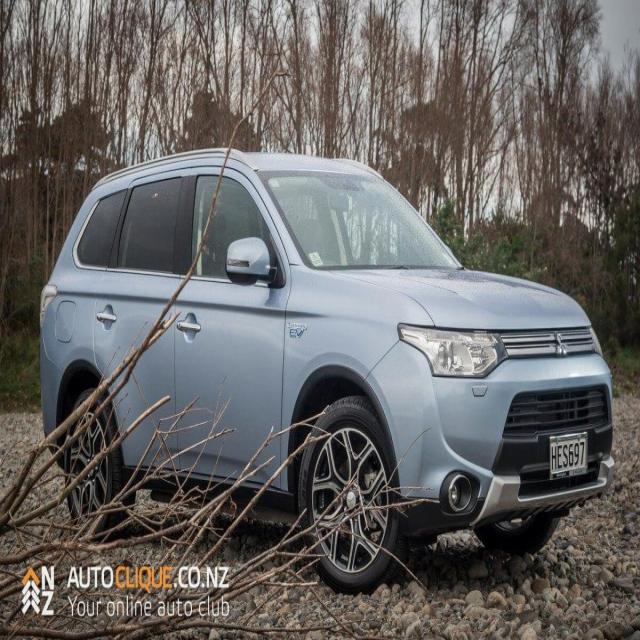light_vehicle: (39, 148, 614, 594)
